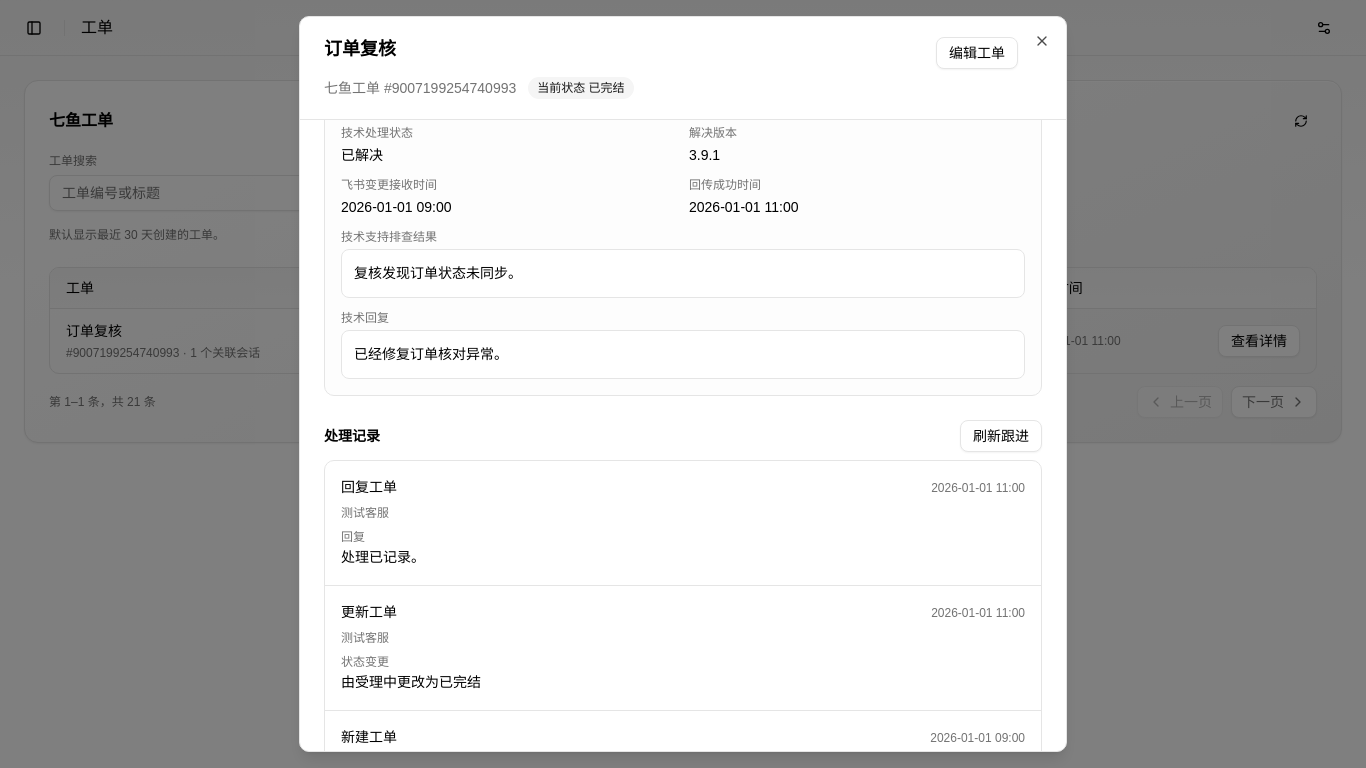
it: 七鱼工单 › refreshes the open ticket and keeps its technical reply, author, and attachments together
The width and height of the screenshot is (1366, 768).
(page scrolled)
Expected: the text "补充复核结果。" is not shown
Click the button "刷新跟进" at (1001, 436), box x1=960 y1=420 x2=1042 y2=452
(page scrolled)
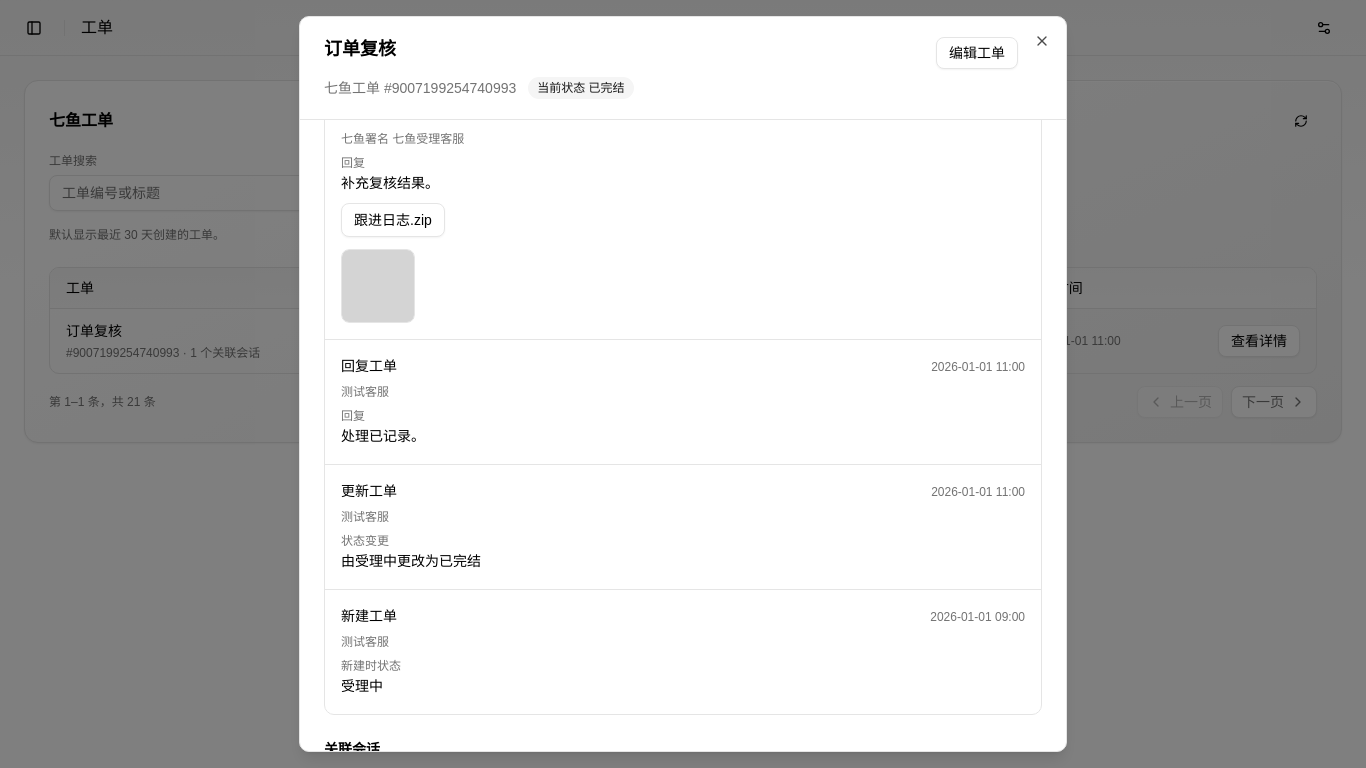
Expected: the text "处理已记录。" is shown, x1=341 y1=428 x2=425 y2=444
Now the text "七鱼署名 七鱼受理客服" is shown, box x1=341 y1=132 x2=464 y2=146
